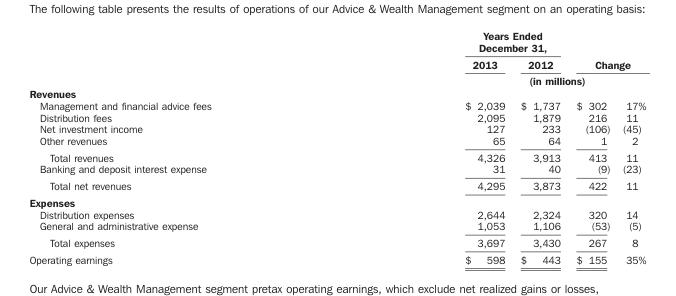table: (28, 29, 645, 265)
table column: (28, 29, 337, 265), (337, 29, 512, 265), (512, 29, 567, 265), (567, 29, 615, 265), (615, 29, 645, 265)
table column header: (28, 29, 645, 87)
table projected row header: (28, 193, 645, 207), (28, 87, 645, 99)
table row: (28, 29, 645, 55), (28, 55, 645, 72), (28, 176, 645, 193), (28, 233, 645, 250), (28, 72, 645, 87), (28, 250, 645, 265), (28, 134, 645, 148), (28, 148, 645, 162), (28, 162, 645, 176), (28, 193, 645, 207), (28, 219, 645, 233), (28, 87, 645, 99), (28, 99, 645, 111), (28, 122, 645, 134), (28, 207, 645, 219), (28, 111, 645, 122)
table spanning cell: (337, 29, 567, 55), (337, 72, 615, 87), (567, 29, 645, 72)
